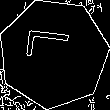L_E: (27, 35, 80, 72)
